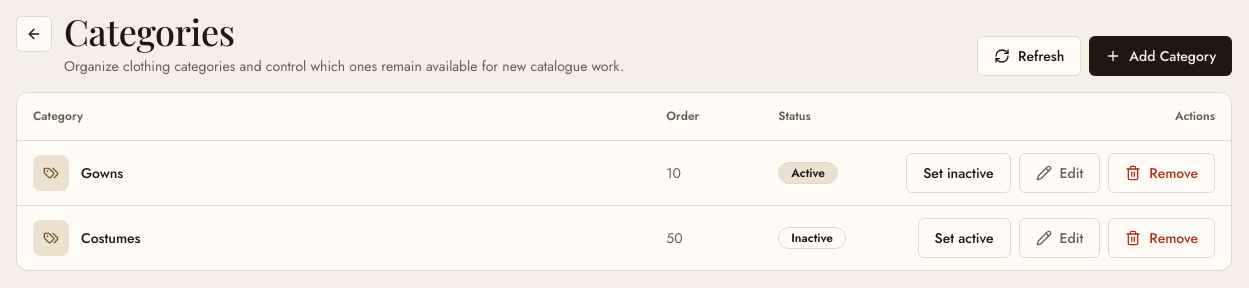
Test: CategoriesPage › guards a duplicate category toggle and updates the rendered state after success
Step 1. Click the button with aria-label "Hide Gowns on storefront" → (958, 173), box [906, 153, 1011, 193]
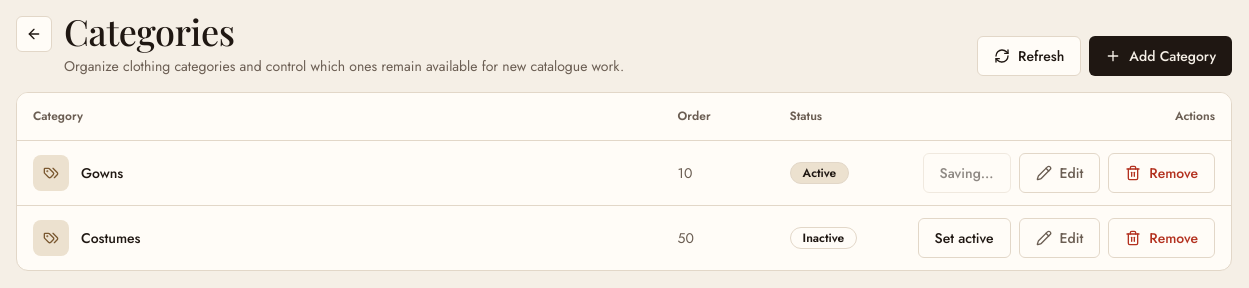
Step 2. Click the button with aria-label "Hide Gowns on storefront" → (966, 173), box [922, 153, 1010, 193]
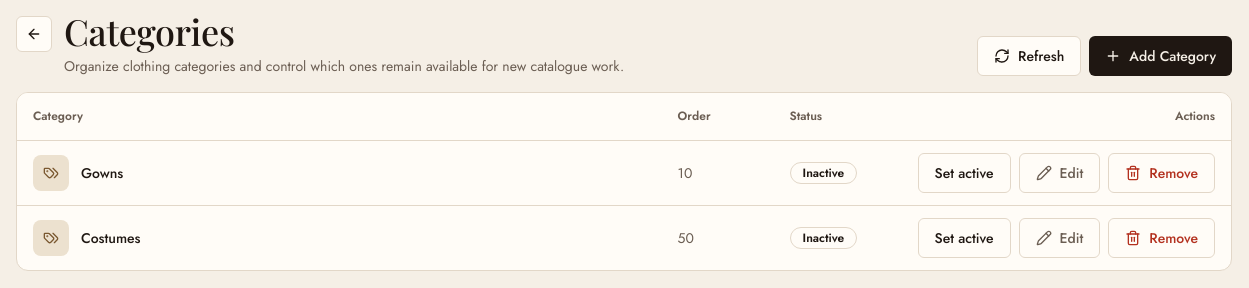
Check: the button with aria-label "Show Gowns on storefront" reads "Set active", box [918, 153, 1011, 193]
